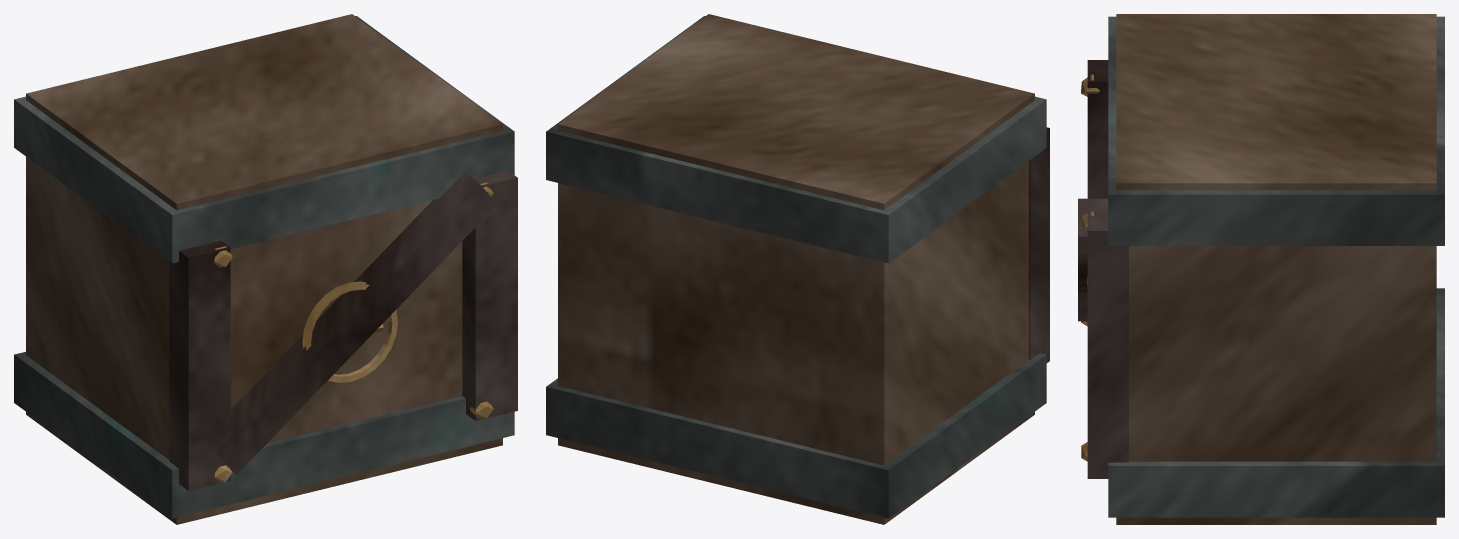
The model's file is 0742_supply_crate_17.glb.
3 renders of one model, left to right at view 1: azimuth 30°, elevation 25°; view 2: azimuth 150°, elevation 25°; view 3: azimuth 270°, elevation 25°, orthographic. The views are drawn at different scales.
Parts seen in each view (by area): view 1: wood, iron, wood_dark, brass; view 2: wood, iron, wood_dark; view 3: wood, iron, wood_dark, brass.
Part boxes in pixels (left/top/right/bottom): wood: left=26, top=14, right=502, bottom=524; iron: left=14, top=16, right=514, bottom=518; wood_dark: left=169, top=170, right=517, bottom=490; brass: left=214, top=182, right=493, bottom=482; wood: left=558, top=14, right=1034, bottom=524; iron: left=546, top=16, right=1046, bottom=518; wood_dark: left=1029, top=127, right=1049, bottom=362; wood: left=1116, top=14, right=1436, bottom=524; iron: left=1108, top=16, right=1444, bottom=517; wood_dark: left=1078, top=60, right=1128, bottom=478; brass: left=1081, top=74, right=1099, bottom=461.
Bounding box in the file's own units: 0.8146 × 0.7299 × 0.7099.
4 materials, 4 textured.
